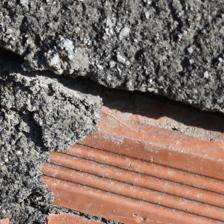Crack: (2, 21, 220, 103)
